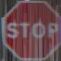Stop: (3, 7, 58, 48)
